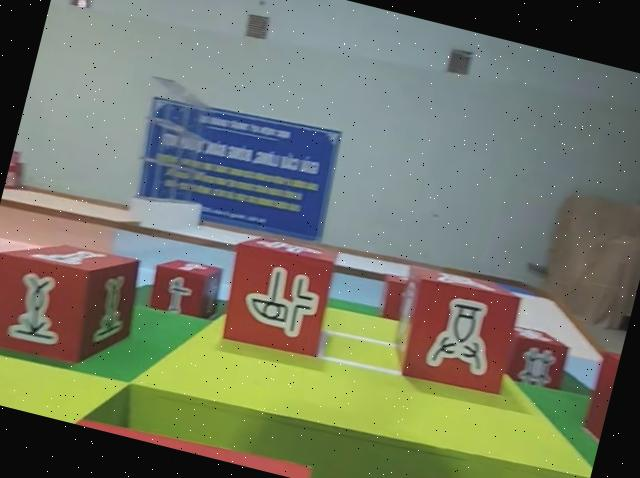R2 Real: (0, 222, 149, 380), (381, 256, 527, 402), (211, 221, 346, 364), (144, 248, 226, 326), (490, 319, 573, 394), (573, 344, 623, 467)
